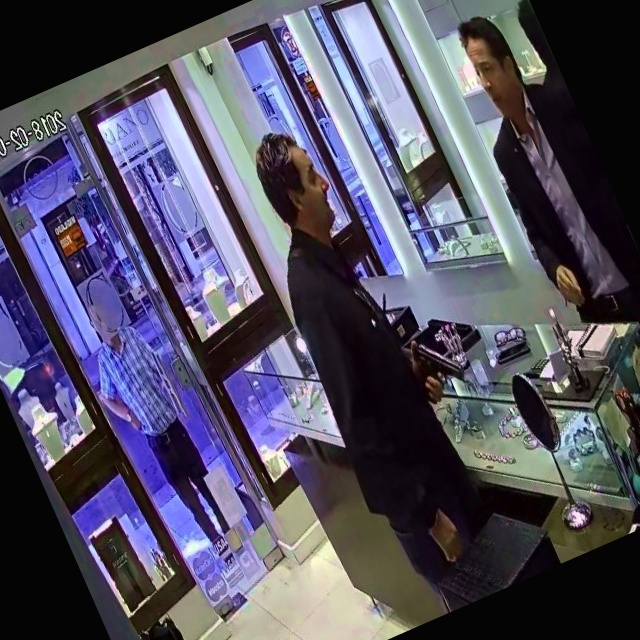gun: (390, 309, 483, 423)
